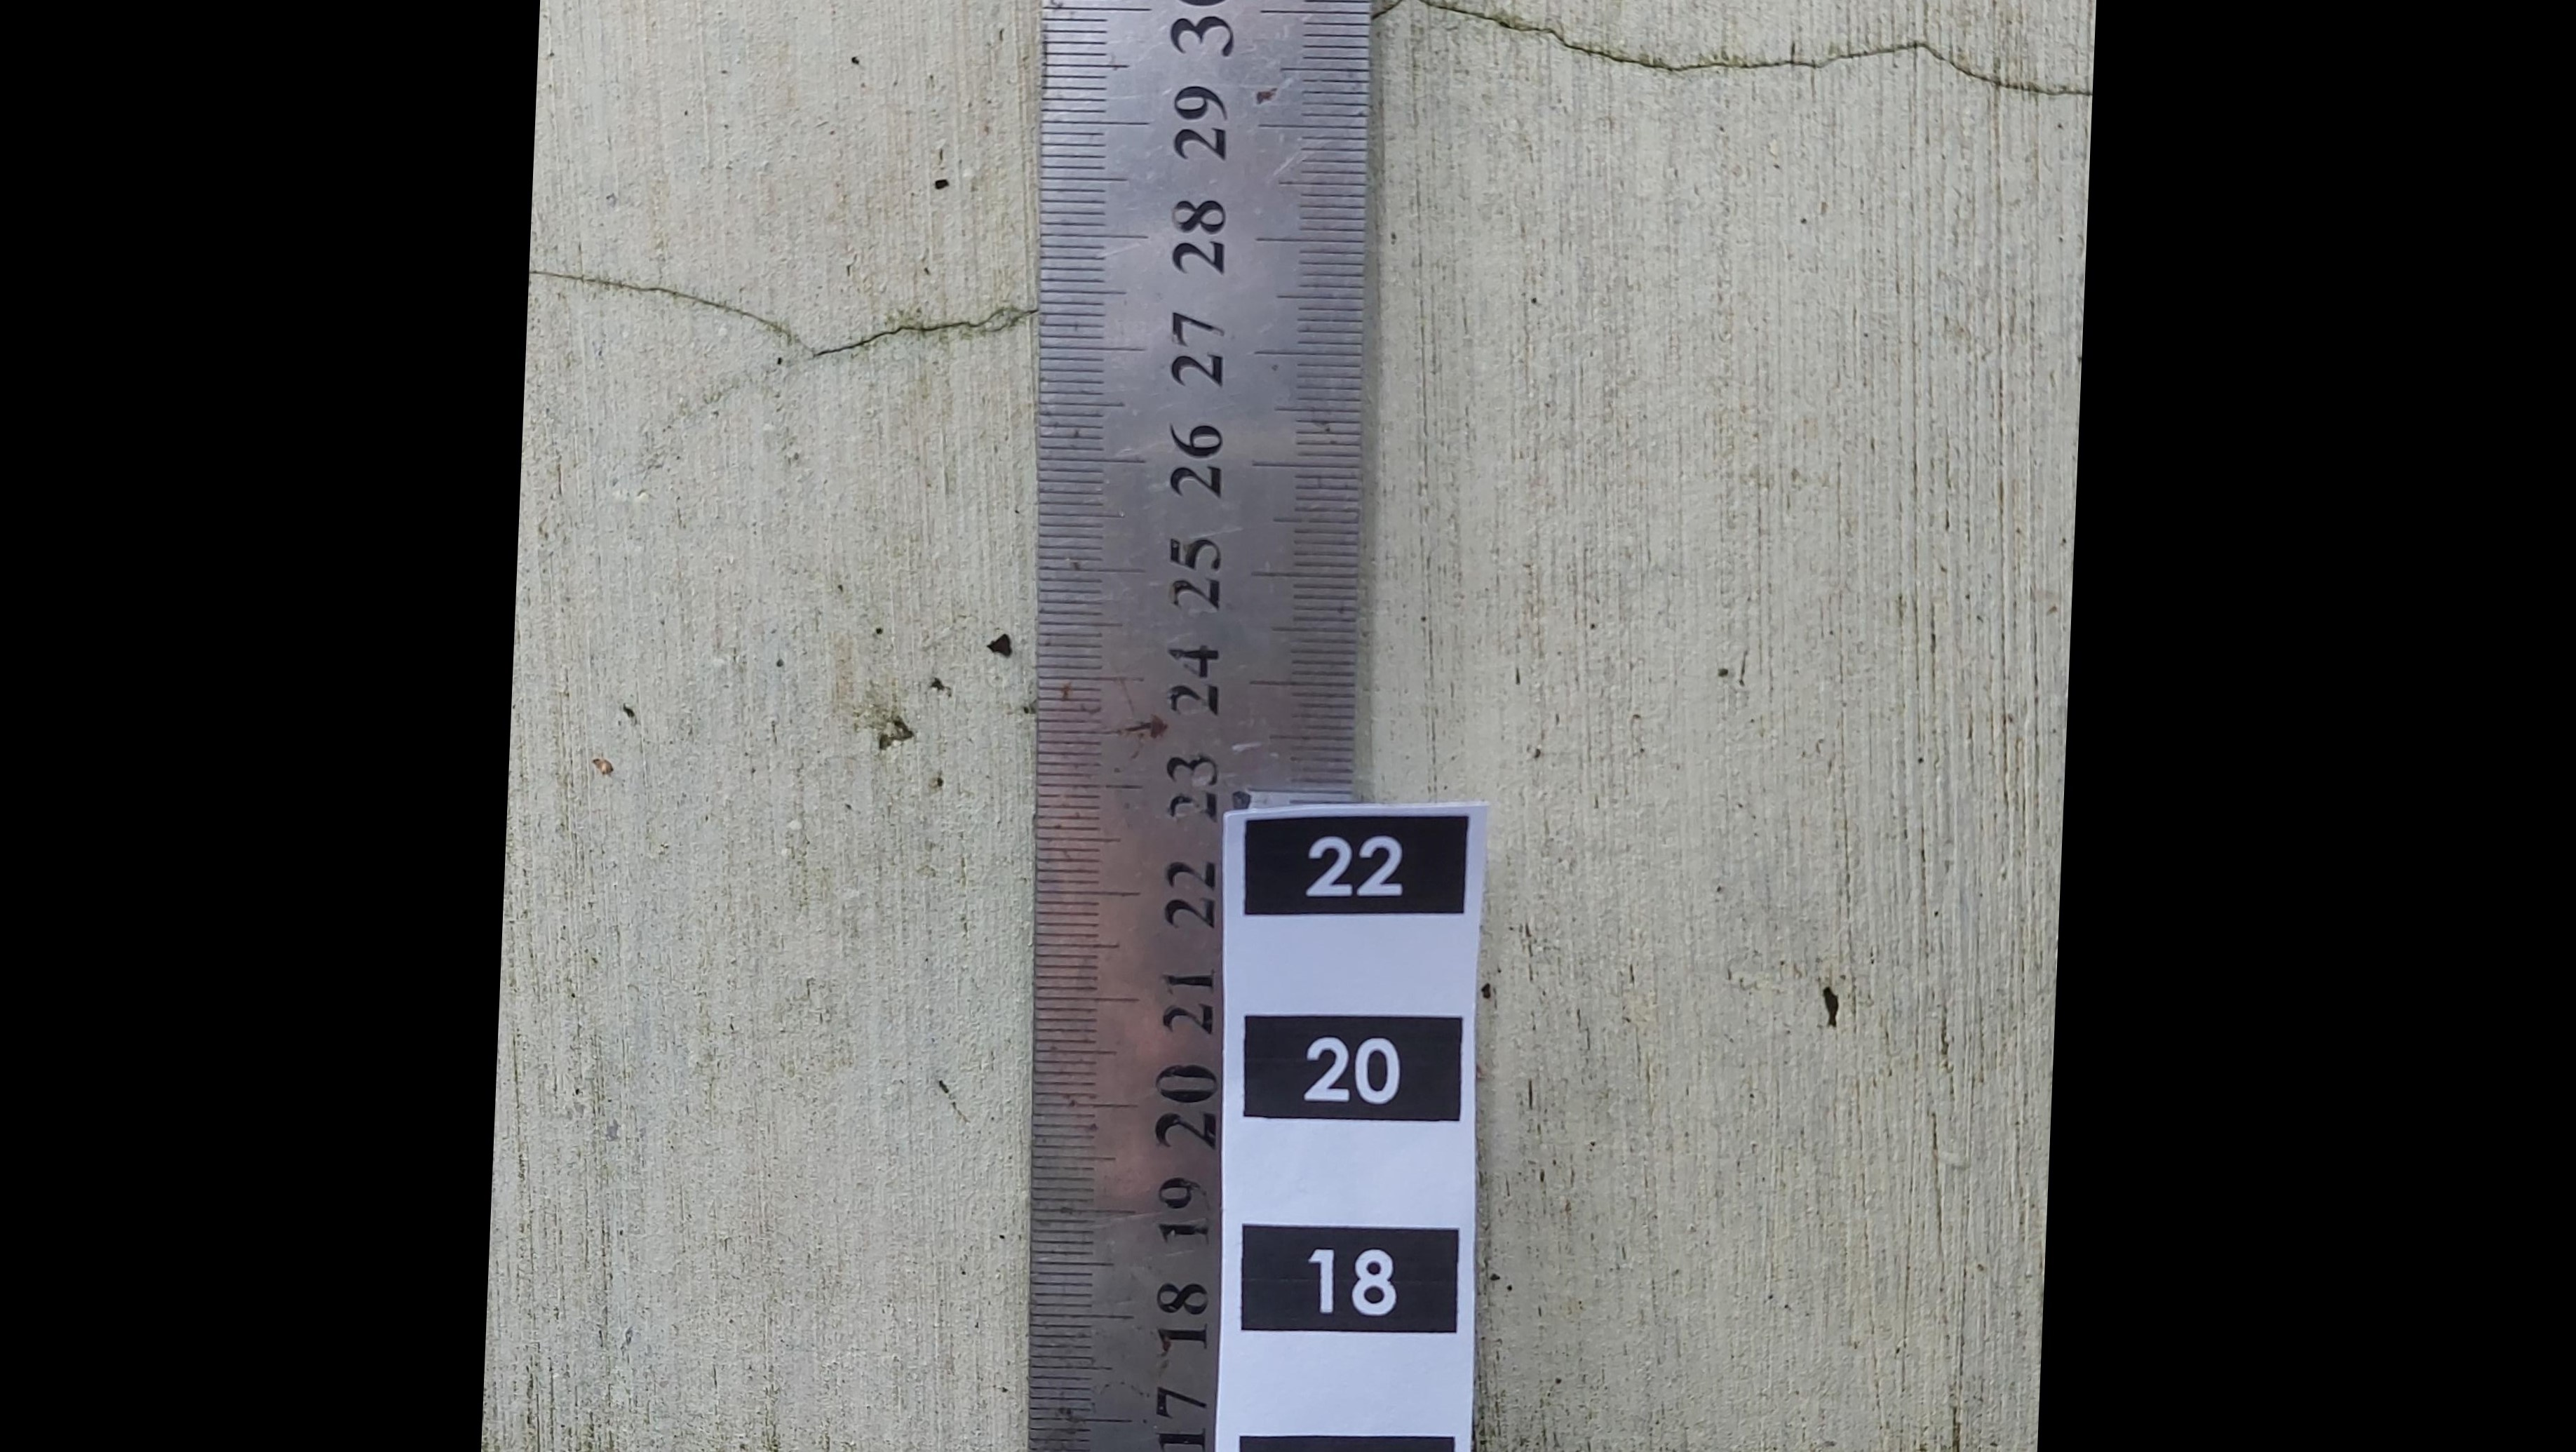kotak_2x1: (1242, 1015, 1461, 1123), (1242, 1227, 1456, 1337), (1246, 819, 1465, 913)
